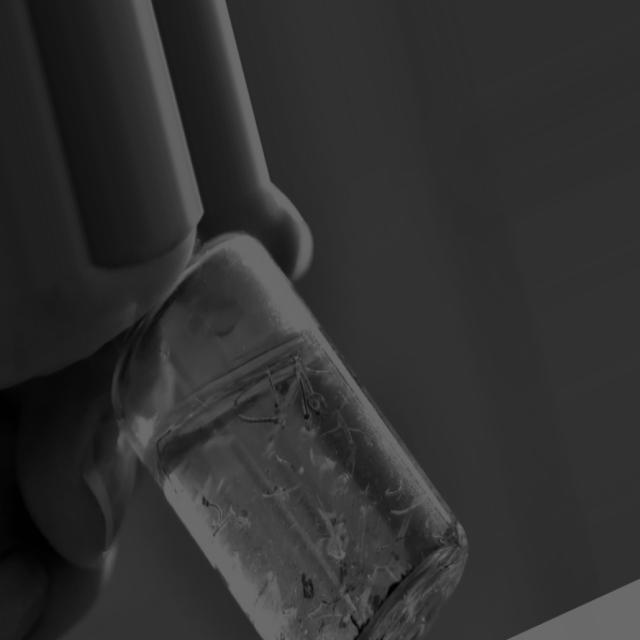larvas: (236, 403, 287, 431), (295, 355, 316, 397), (156, 427, 172, 482), (297, 379, 313, 430), (338, 416, 353, 461), (308, 389, 328, 422), (214, 507, 234, 536), (267, 366, 277, 410), (202, 499, 220, 521), (284, 385, 296, 417), (276, 452, 296, 471), (237, 511, 250, 531)
